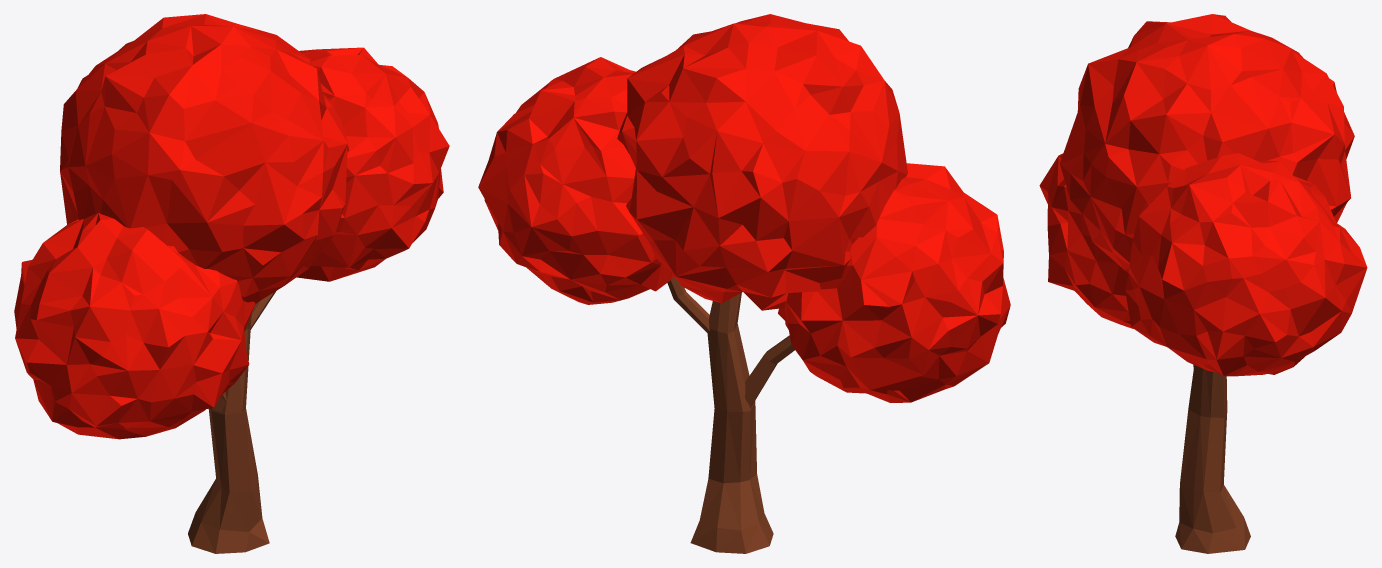
Rendered from burning-growing-tree2-1.glb.
3 views of the same model, side by side, from view 1: azimuth 30°, elevation 25°; view 2: azimuth 150°, elevation 25°; view 3: azimuth 270°, elevation 25° (orthographic). The views are drawn at different scales.
Parts seen in each view (by area): view 1: Tree.2; view 2: Tree.2; view 3: Tree.2.
Boxes of the visible parts, left/top/right/bottom form: Tree.2: left=14, top=14, right=449, bottom=553; Tree.2: left=478, top=14, right=1010, bottom=553; Tree.2: left=1039, top=14, right=1367, bottom=553.
Size of the model in its own units: 0.4208 by 0.4557 by 0.2745.
